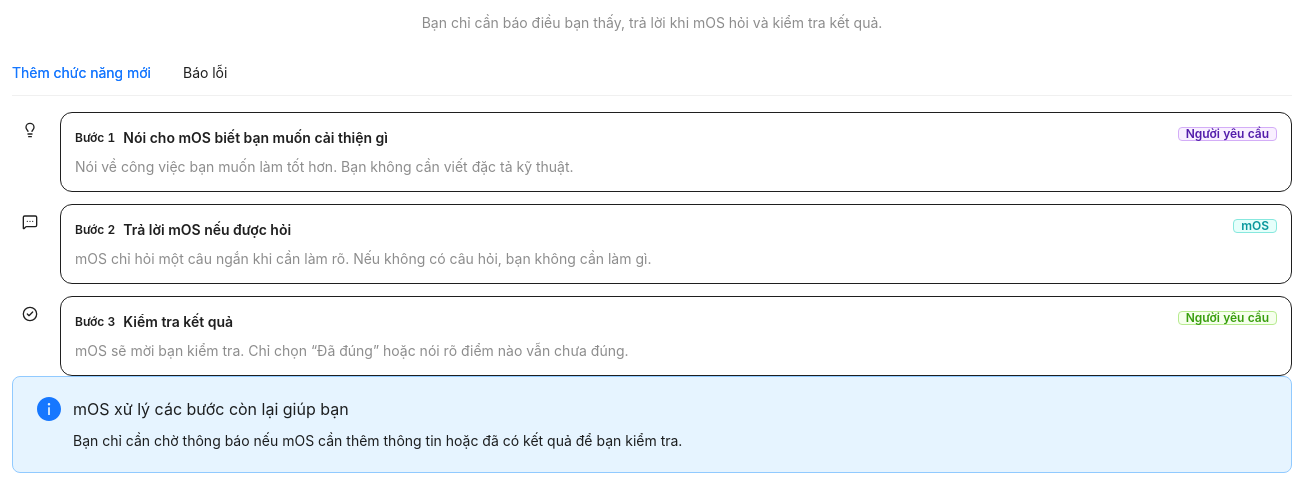
Test: BugReportWorkflowGuide › uses a short bug label and keeps the same three staff actions
Click the tab "Báo lỗi" at (205, 73), box [183,62,227,84]
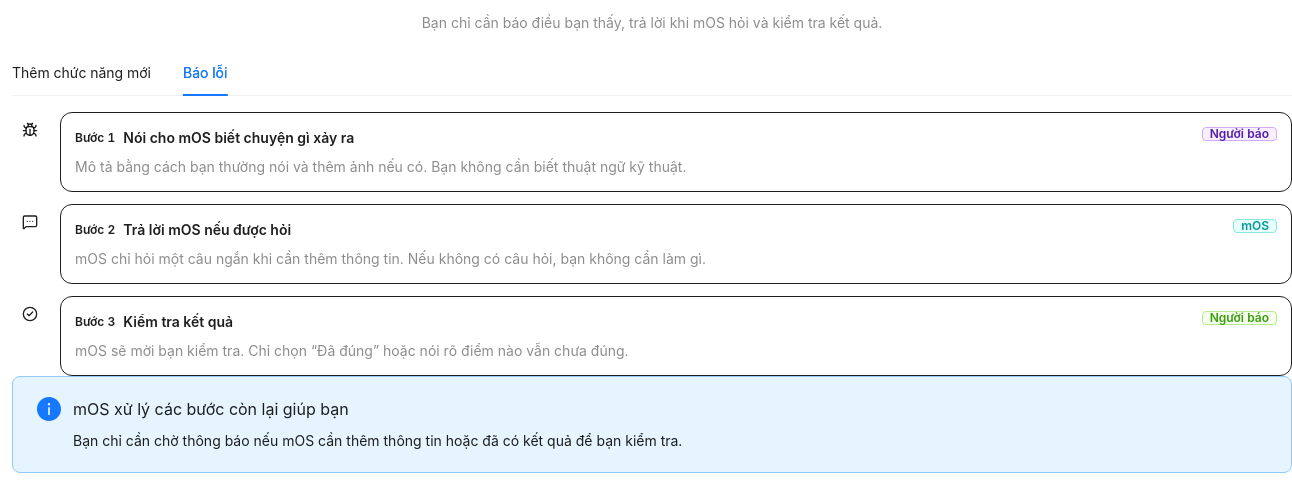
Expected: the text "Trả lời mOS nếu được hỏi" is shown, [123,221,291,238]
Now the text "Nói cho mOS biết chuyện gì xảy ra" is shown, box [123,129,354,146]
